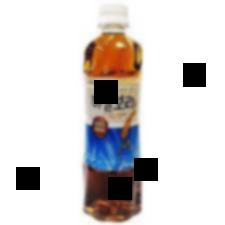haneulbori: (80, 9, 147, 223)
